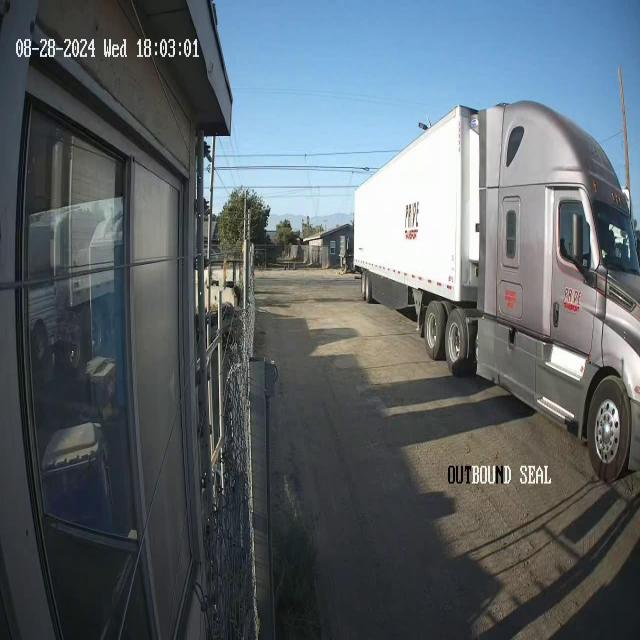TRUCK_CONTAINER: (352, 93, 639, 484)
